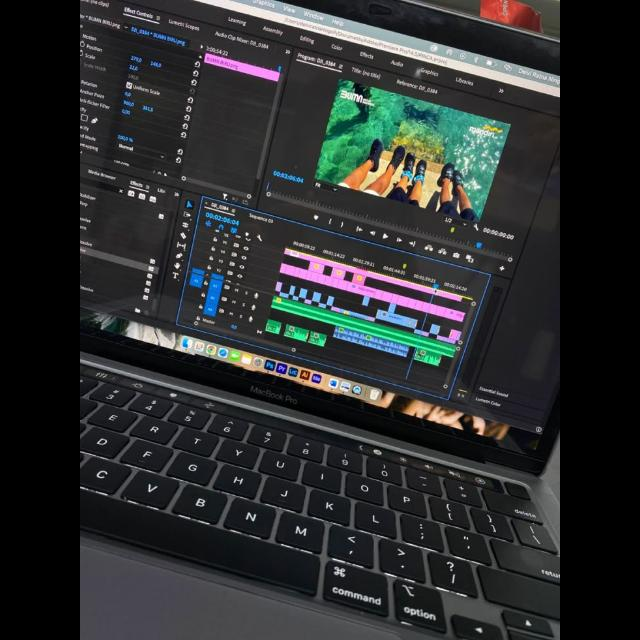laptop: (88, 0, 560, 640)
